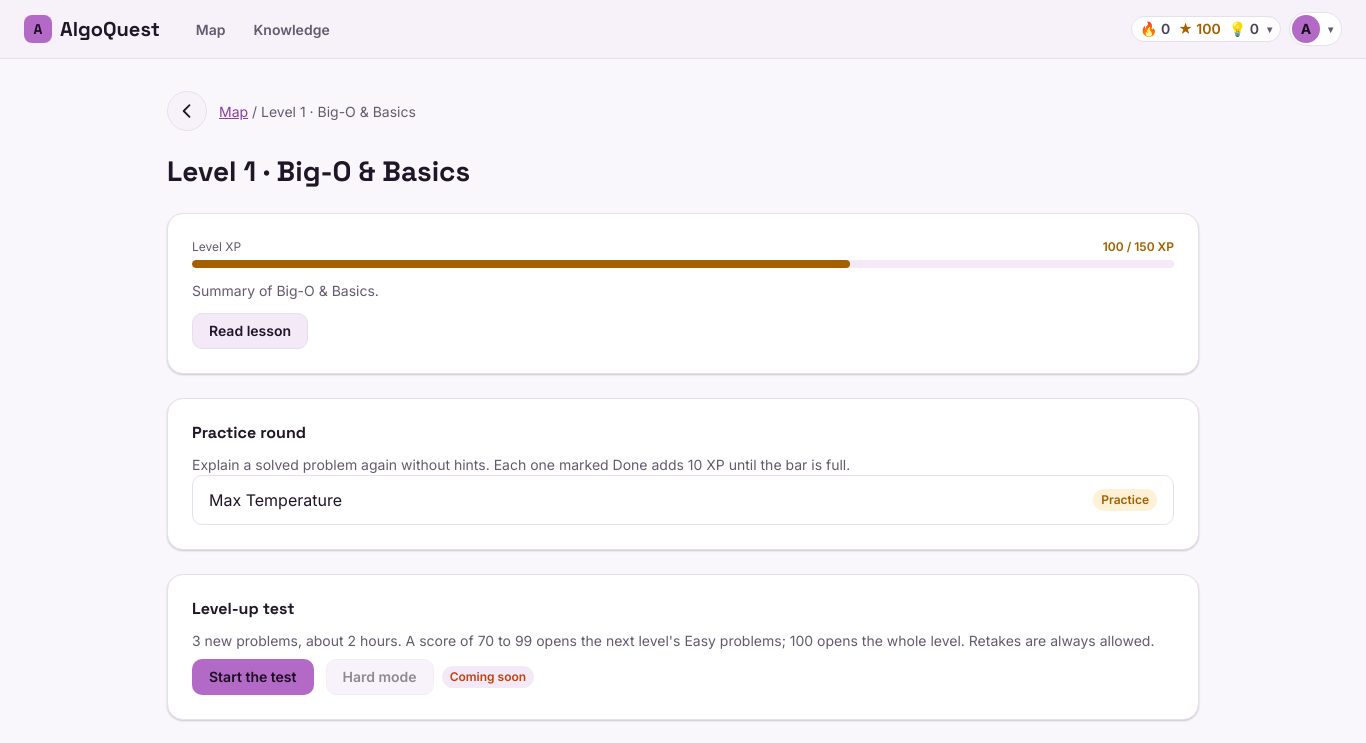
Test case: level-up test › links to the blocking test using server metadata (en)
What coordinates should you click on to do the following:
click the button "Start the test"
I would click on:
 (253, 677)
Its box is [192,659,314,695].
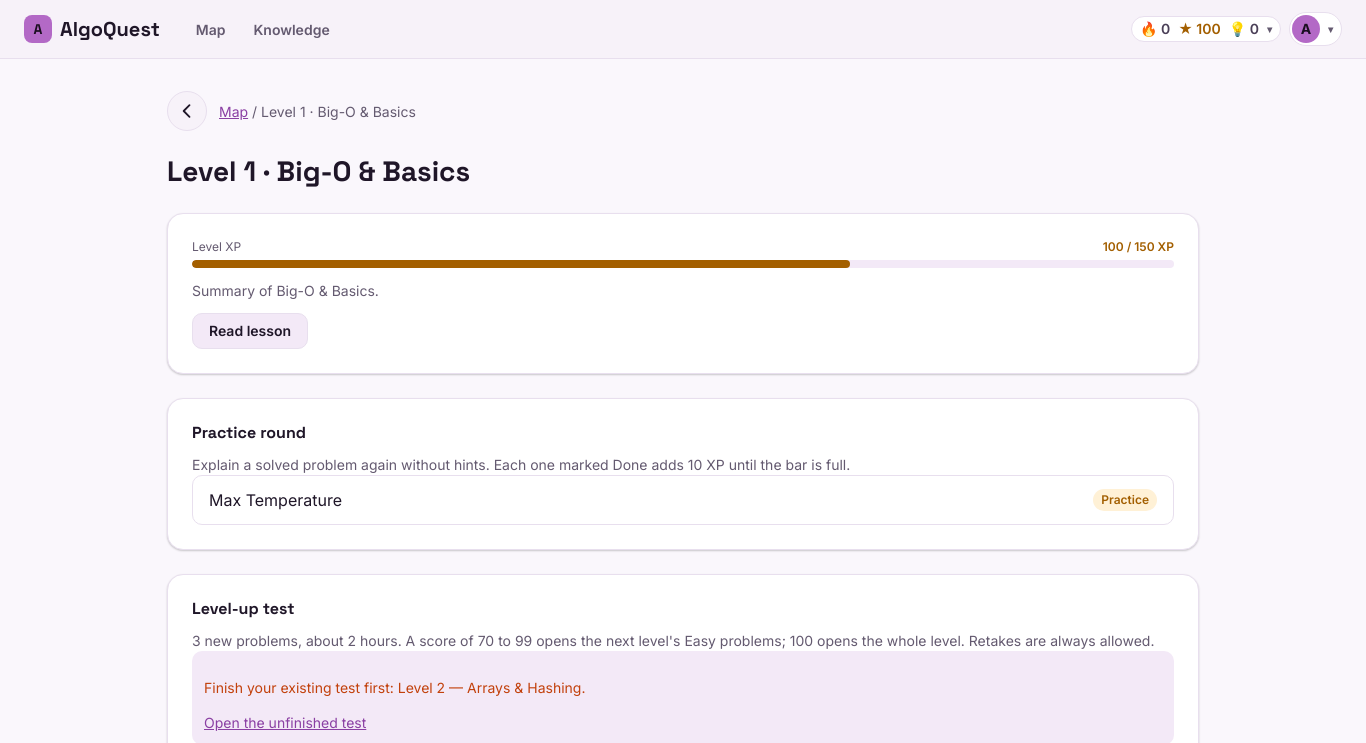
Expected: the message shows "Finish your existing test first:", [204,679,394,696]
Expected: the message shows "Arrays & Hashing", [445,679,582,696]
